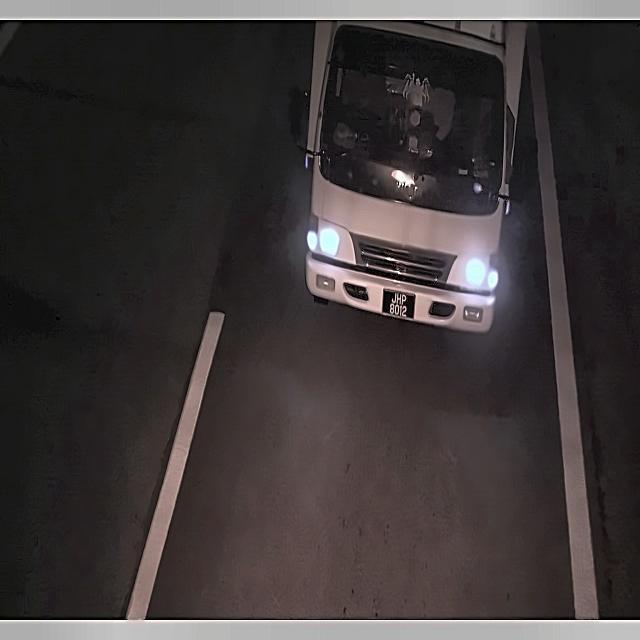car: (381, 288, 415, 321)
